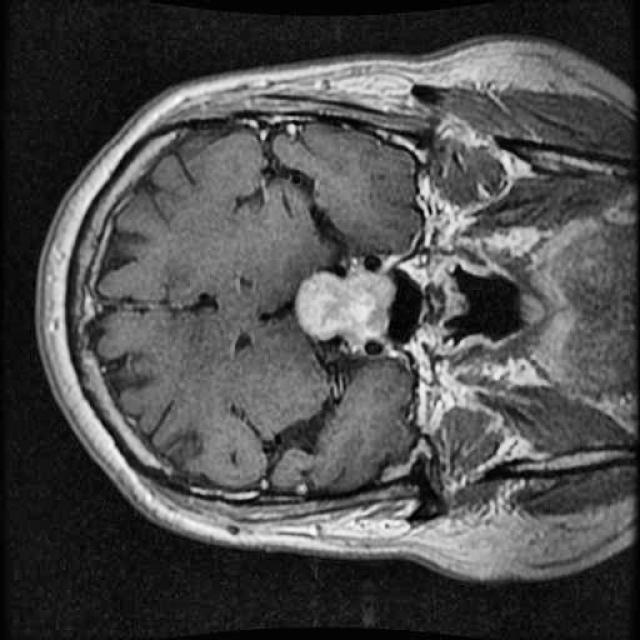Tumor: (291, 245, 410, 360)
